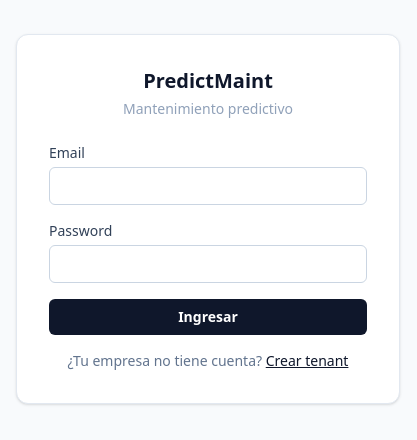
Test: LoginPage › muestra el detail de error del backend cuando el login falla
Type "admin@acme.com" into the field labelled "Email" at (208, 186), box [49,167,367,205]
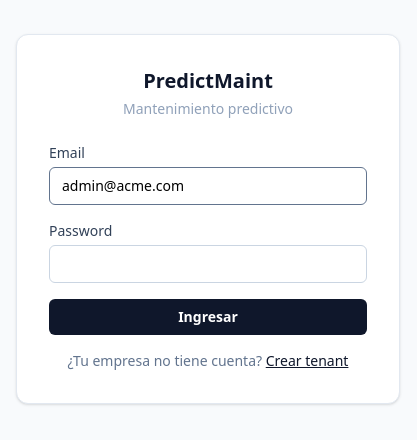
Type "wrong" into the password field labelled "Password" at (208, 264), box [49,245,367,283]
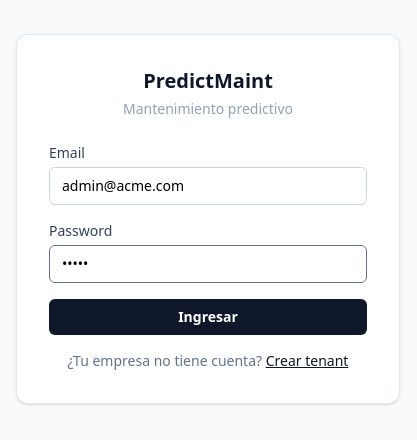
Click the button "Ingresar" at (208, 317), box [49,299,367,335]
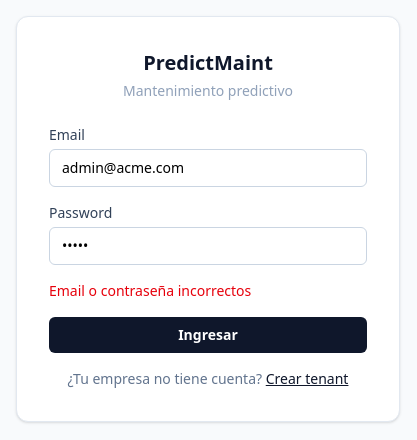
expect the text "Email o contraseña incorrectos" is shown: met, box [49,281,251,300]
